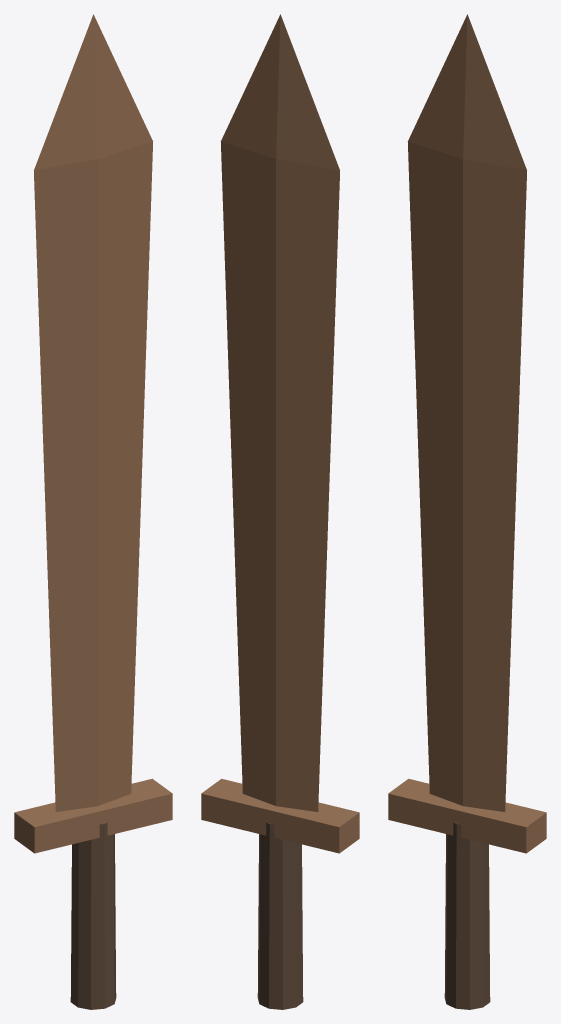
File: rusted_blade.glb
The picture shows the model from 3 angles, left to right: view 1: azimuth 30°, elevation 25°; view 2: azimuth 150°, elevation 25°; view 3: azimuth 330°, elevation 25°; orthographic projection.
Visible parts, largest first — view 1: rusted_blade; view 2: rusted_blade; view 3: rusted_blade.
Part boxes in pixels (<box>): rusted_blade: <box>14,14,172,1009</box>; rusted_blade: <box>201,14,359,1009</box>; rusted_blade: <box>388,14,546,1009</box>.
Size of the model in its own units: 0.11 by 0.75 by 0.032.
